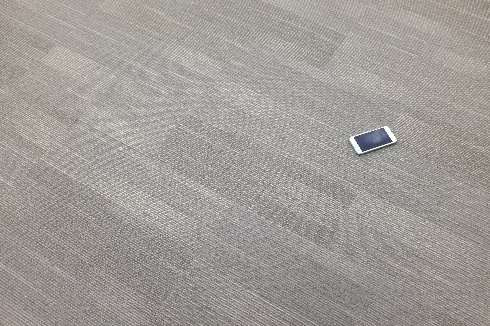phone: (346, 123, 395, 155)
